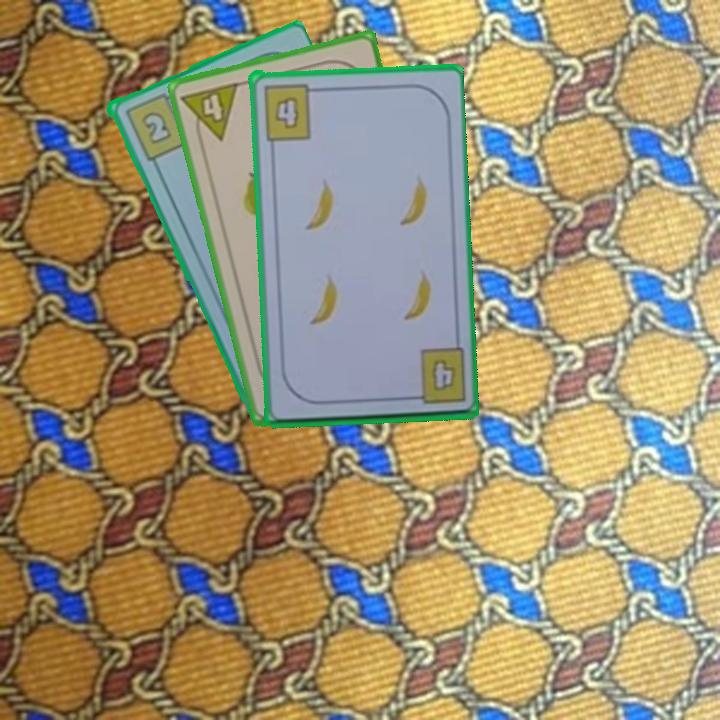2b: (121, 89, 190, 163)
4b: (260, 79, 322, 142), (427, 354, 458, 394)
4p: (178, 78, 242, 148)
